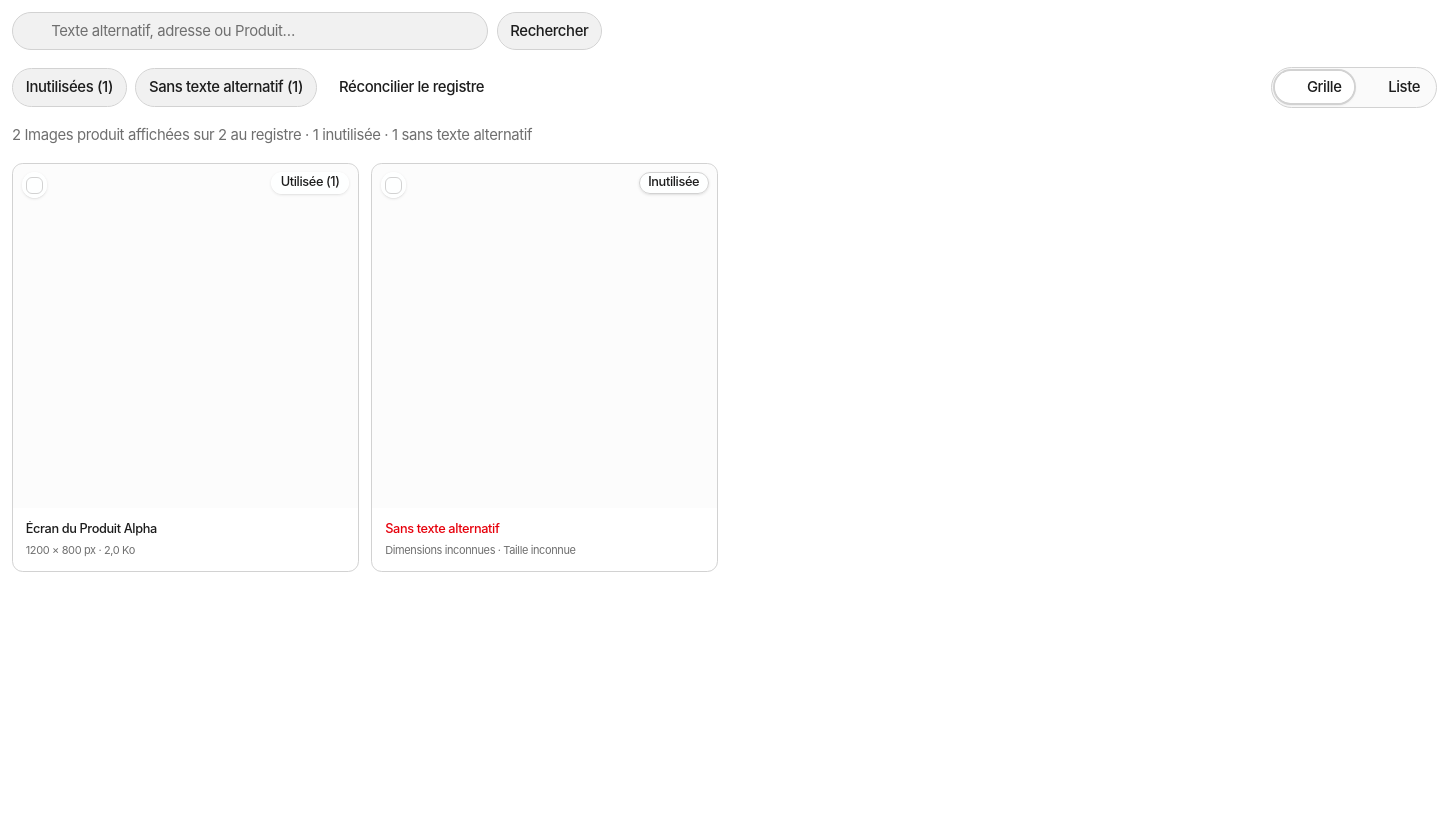
Scenario: MediasBibliotheque › bascule en liste et formate les tailles en français
Step 1. Click the button "Liste" → x=1395, y=87, box [1355,70,1434,104]
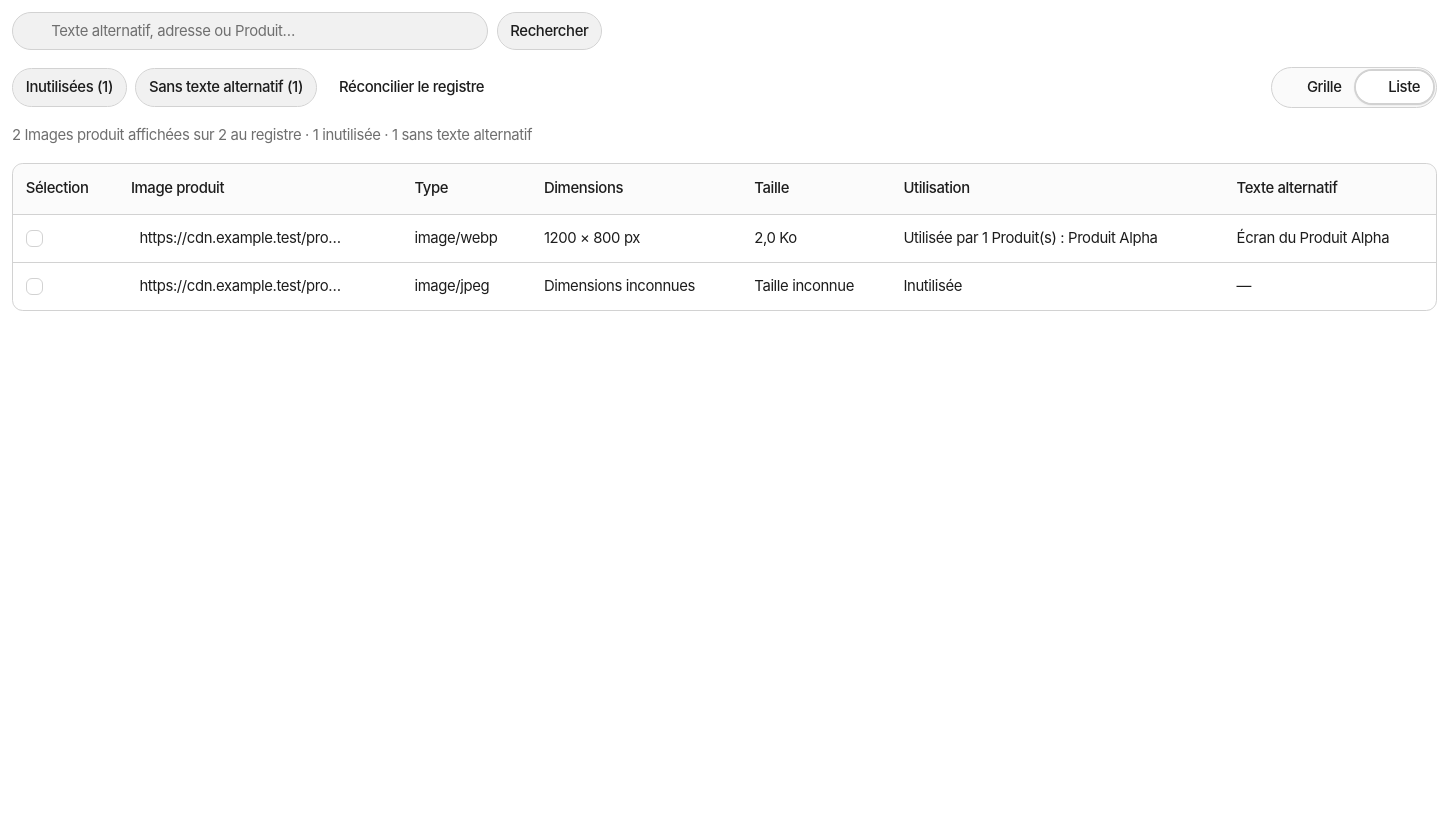
Expected: the text "Sans texte alternatif" is shown, [135,68,317,107]
Now the table is shown, box [13,164,1436,310]
